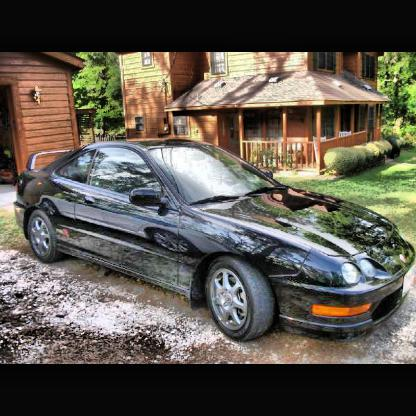Acura Integra Type R 2001: (14, 140, 415, 344)
